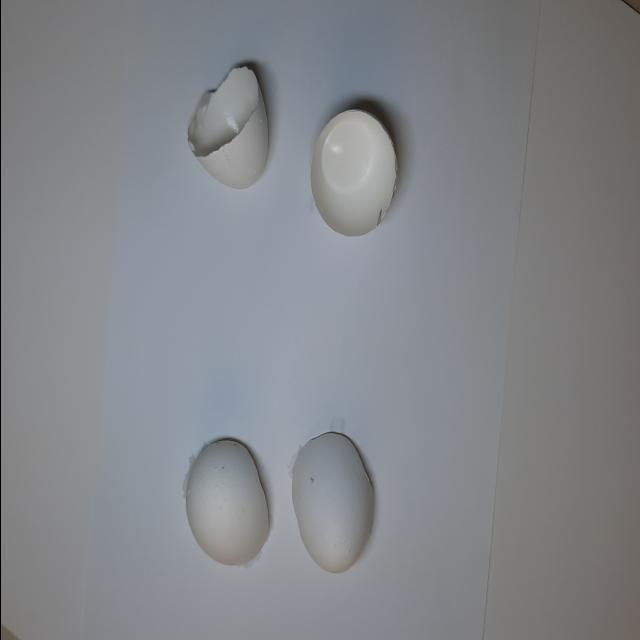egg shell: (282, 420, 386, 590), (176, 52, 284, 204), (302, 96, 405, 246), (178, 426, 274, 576)
